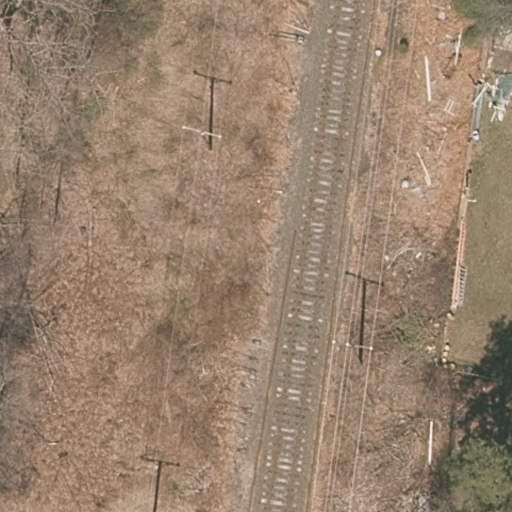DT: (330, 339, 379, 357), (179, 122, 222, 141)
